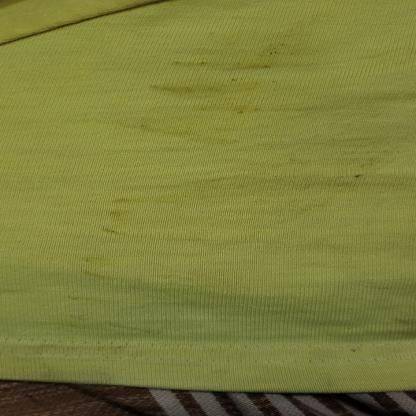spot: (139, 78, 306, 98), (241, 30, 279, 99), (159, 54, 296, 71), (96, 191, 128, 241), (74, 251, 124, 283), (219, 104, 281, 117), (339, 172, 371, 180)
